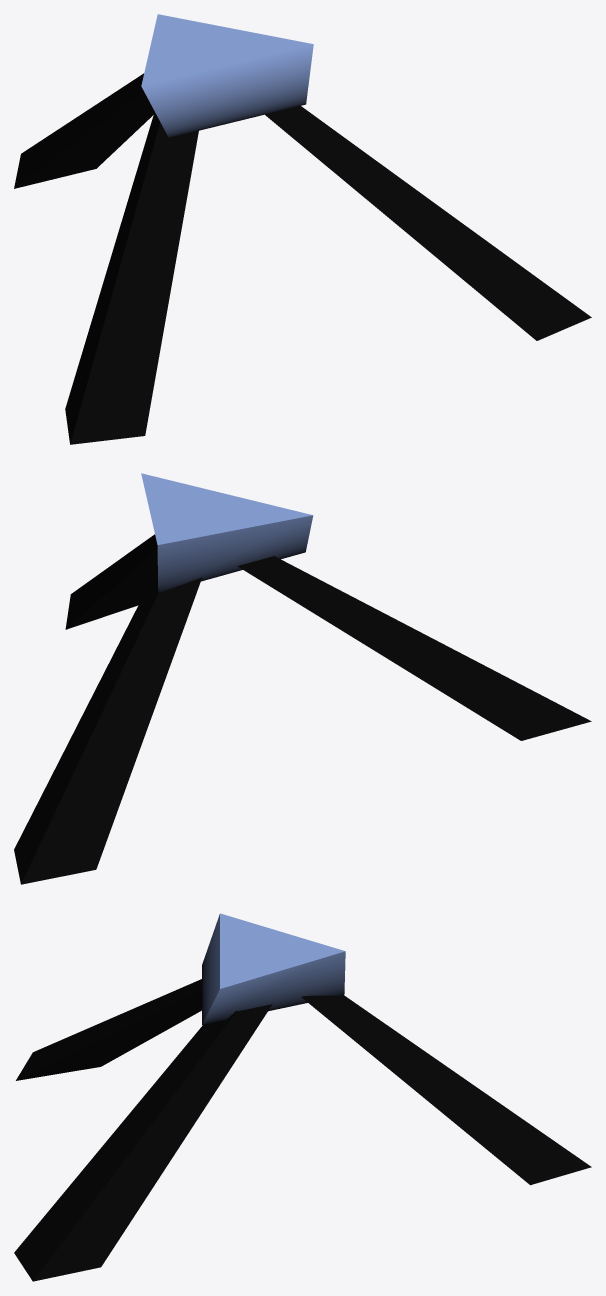
Rendered from RTurret_P_Base.glb.
3 renders of one model, top to bottom at view 1: azimuth 30°, elevation 25°; view 2: azimuth 150°, elevation 25°; view 3: azimuth 270°, elevation 25°, orthographic. The views are drawn at different scales.
Parts seen in each view (by area): view 1: RTurret_Base; view 2: RTurret_Base; view 3: RTurret_Base.
Part boxes in pixels (x1,y1,x2,y2): RTurret_Base: (14, 14, 591, 444); RTurret_Base: (14, 473, 591, 884); RTurret_Base: (14, 913, 591, 1281).
Bounding box in the file's own units: 0.4414 × 0.1938 × 0.4701.
1 material, 1 textured.
